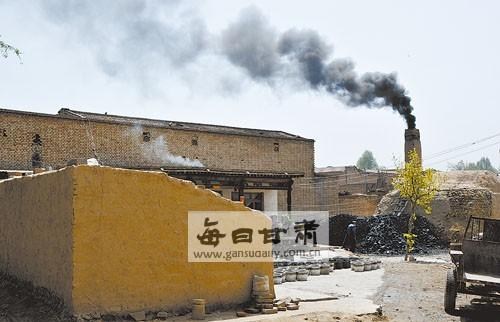smoke: (245, 22, 418, 123)
